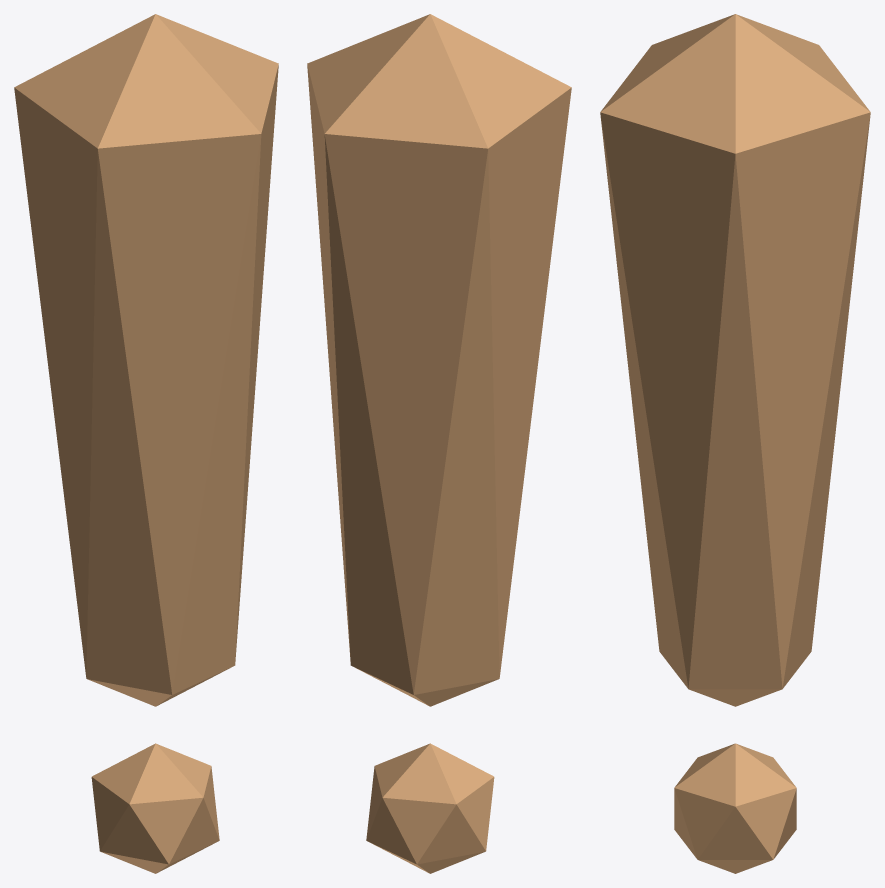
File: GeoNerd_QuestMarker.fbx
3 renders of one model, left to right at view 1: azimuth 30°, elevation 25°; view 2: azimuth 150°, elevation 25°; view 3: azimuth 270°, elevation 25°, orthographic.
Parts seen in each view (by area): view 1: QuestMarker; view 2: QuestMarker; view 3: QuestMarker.
Boxes of the visible parts, x1,y1,x2,y2 form: QuestMarker: [14, 14, 278, 873]; QuestMarker: [307, 14, 571, 873]; QuestMarker: [600, 14, 870, 873].
Size of the model in its own units: 100 by 369 by 105.
